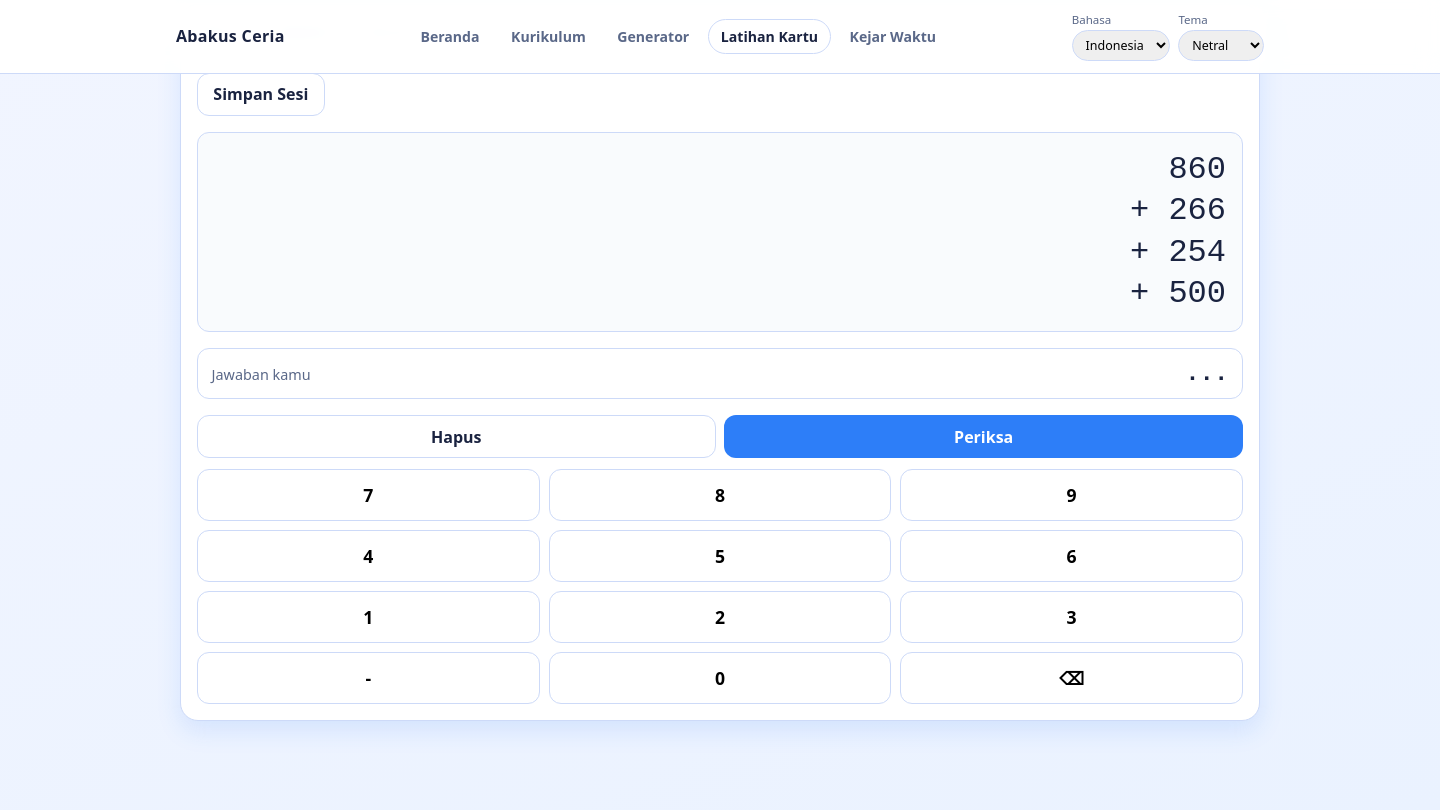
Test: Practice pages › saves anki session progress
(page scrolled)
Click the button "1" at (368,617), box [197,591,540,643]
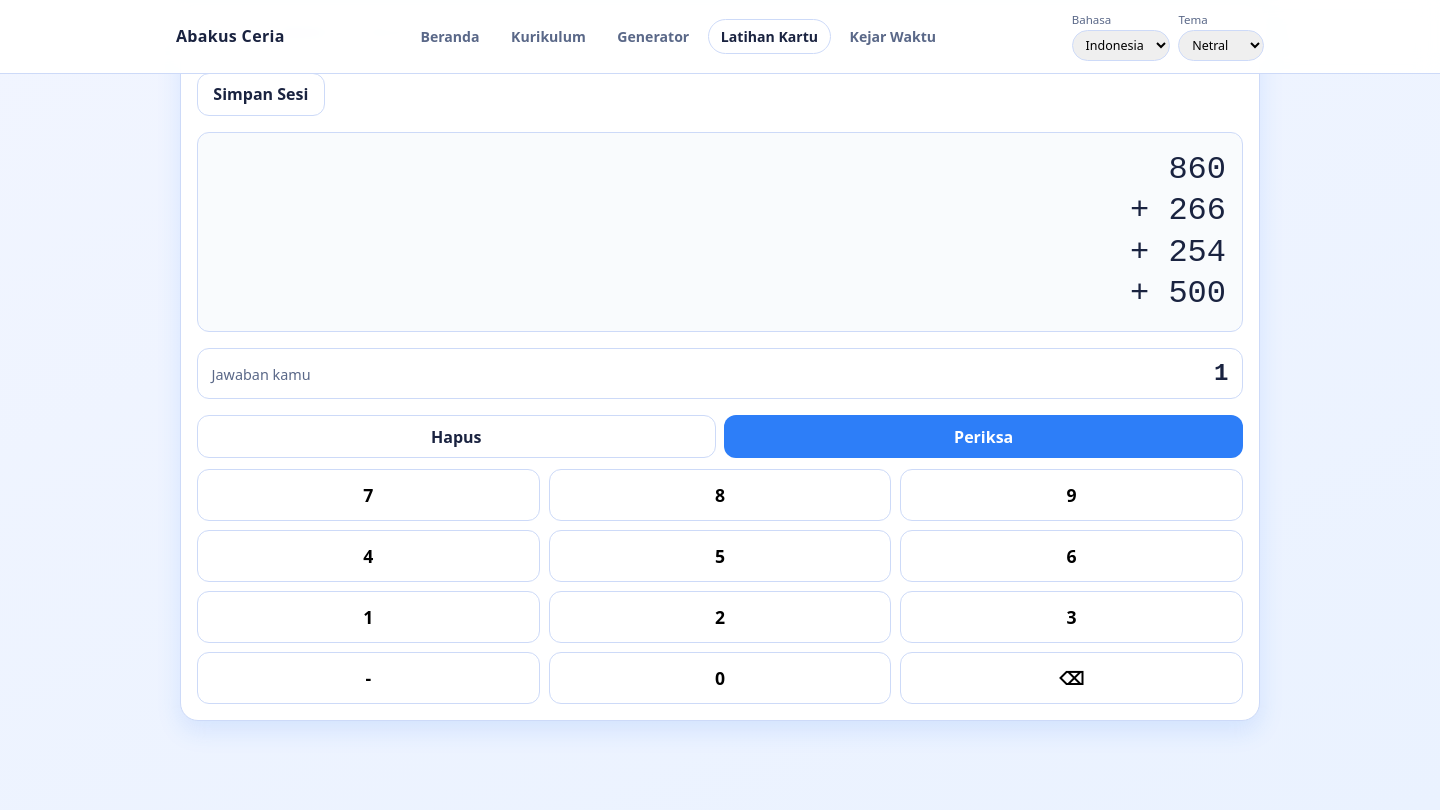
Click the button "8" at (720,495), box [549,469,891,521]
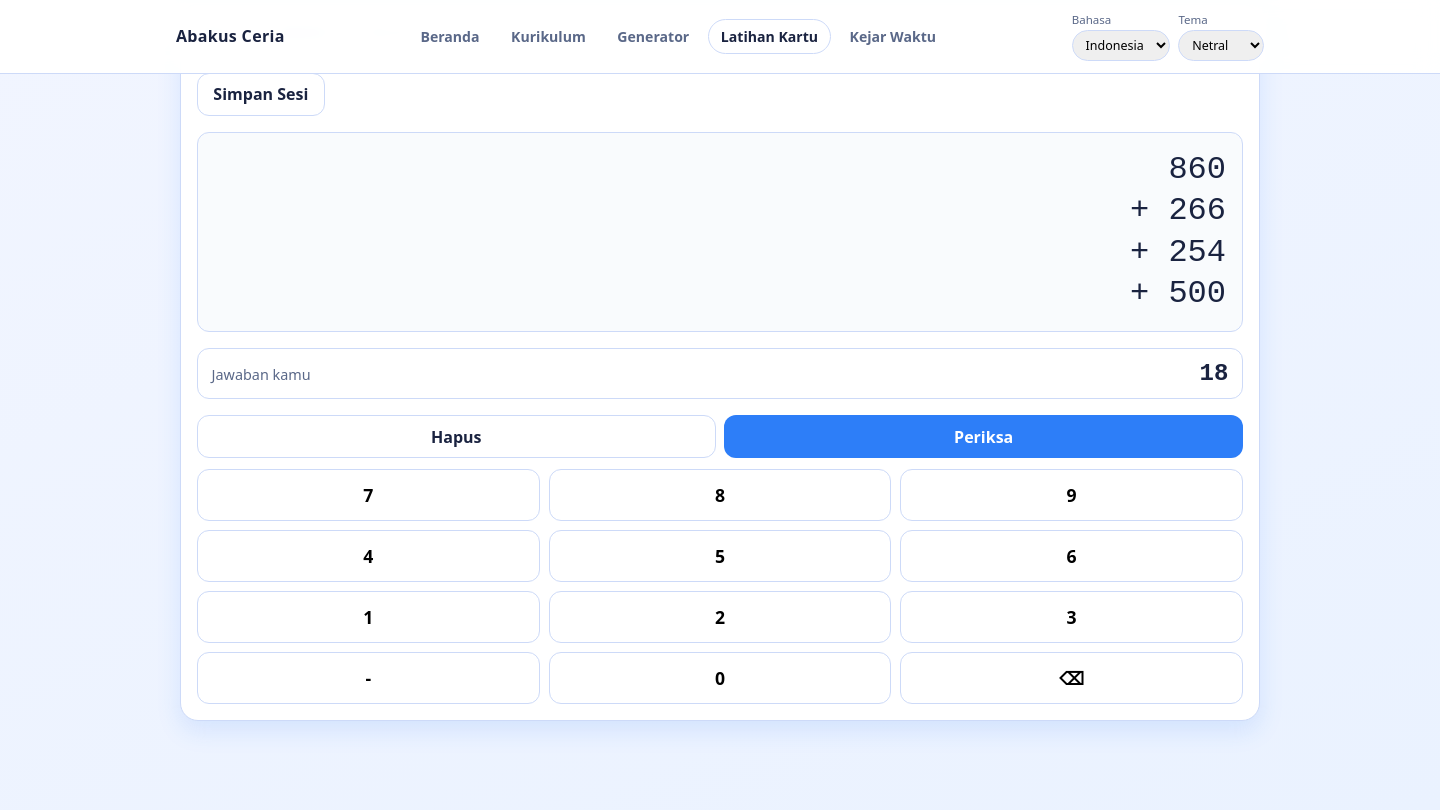
Click the button "8" at (720,495), box [549,469,891,521]
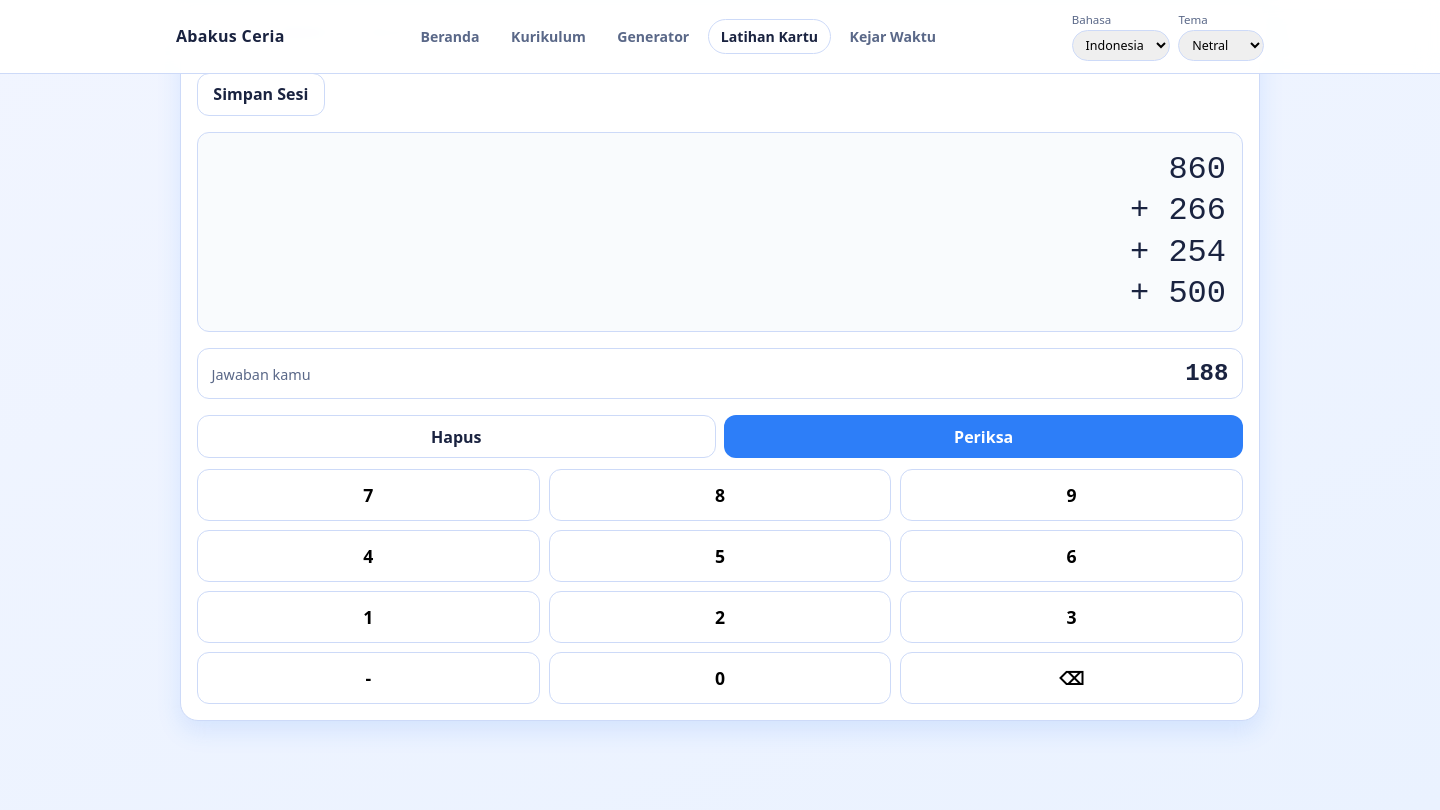
Click the button "0" at (720,678), box [549,652,891,704]
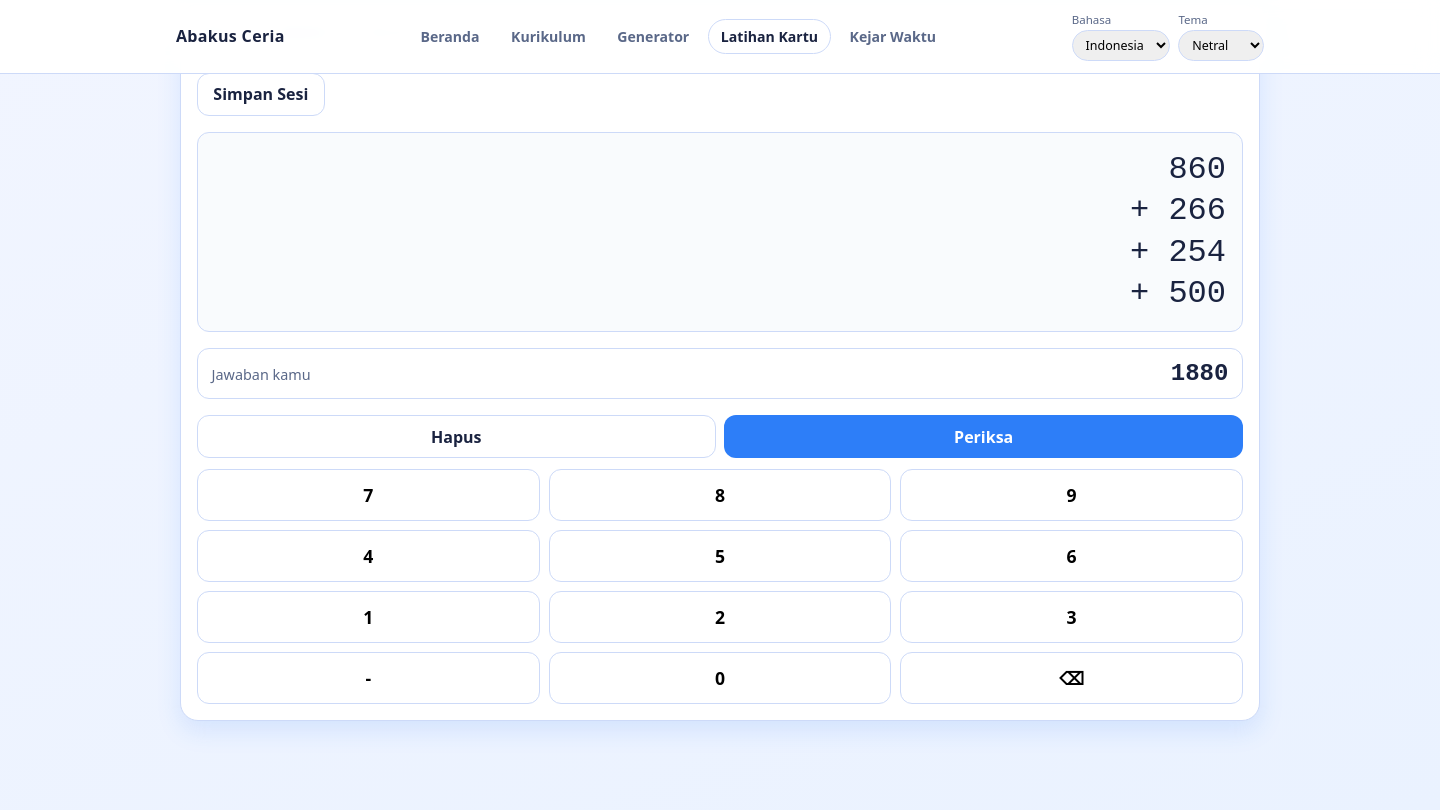
Click the button "Periksa" at (984,437), box [724,415,1243,458]
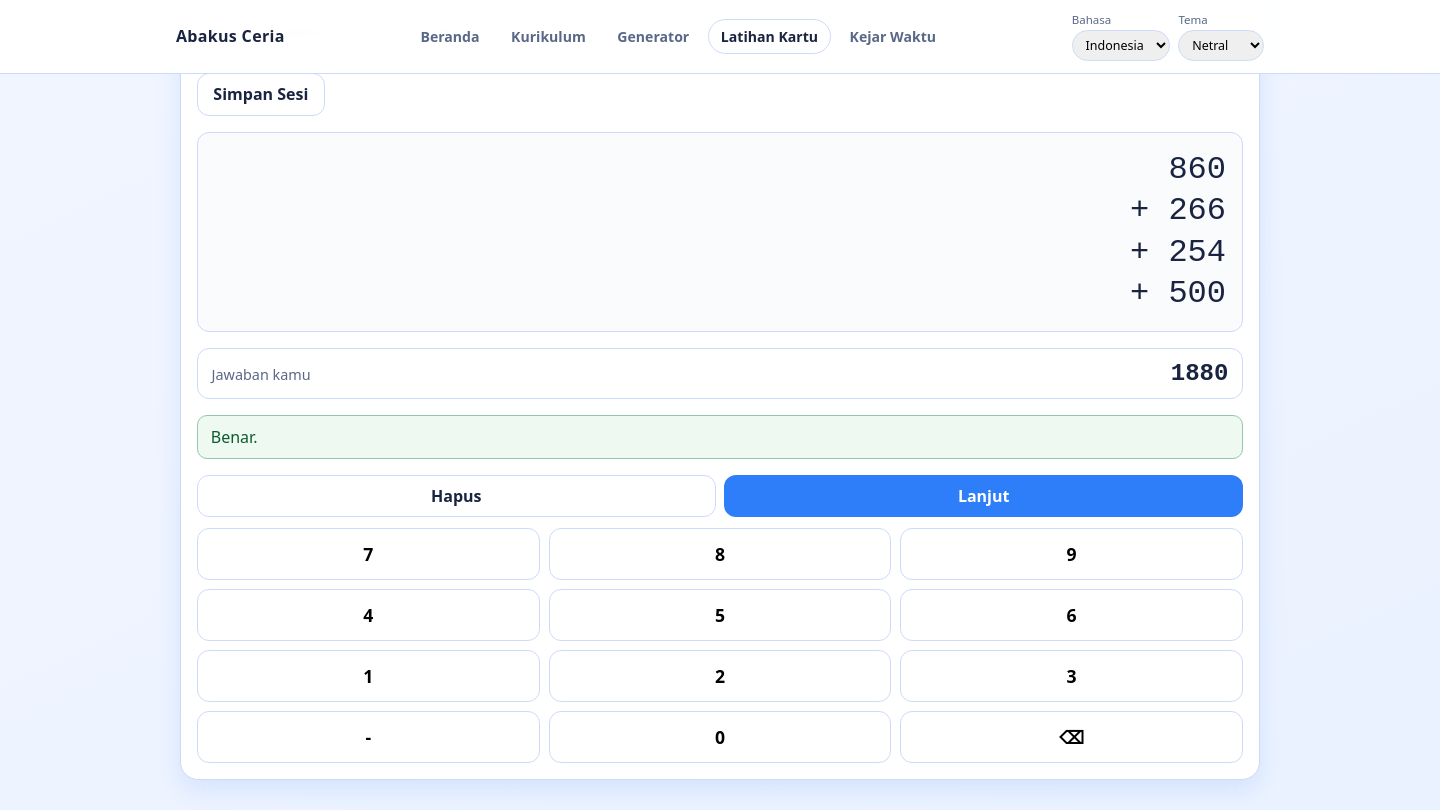
Click the button "Simpan Sesi" at (261,94), box [197,73,325,116]
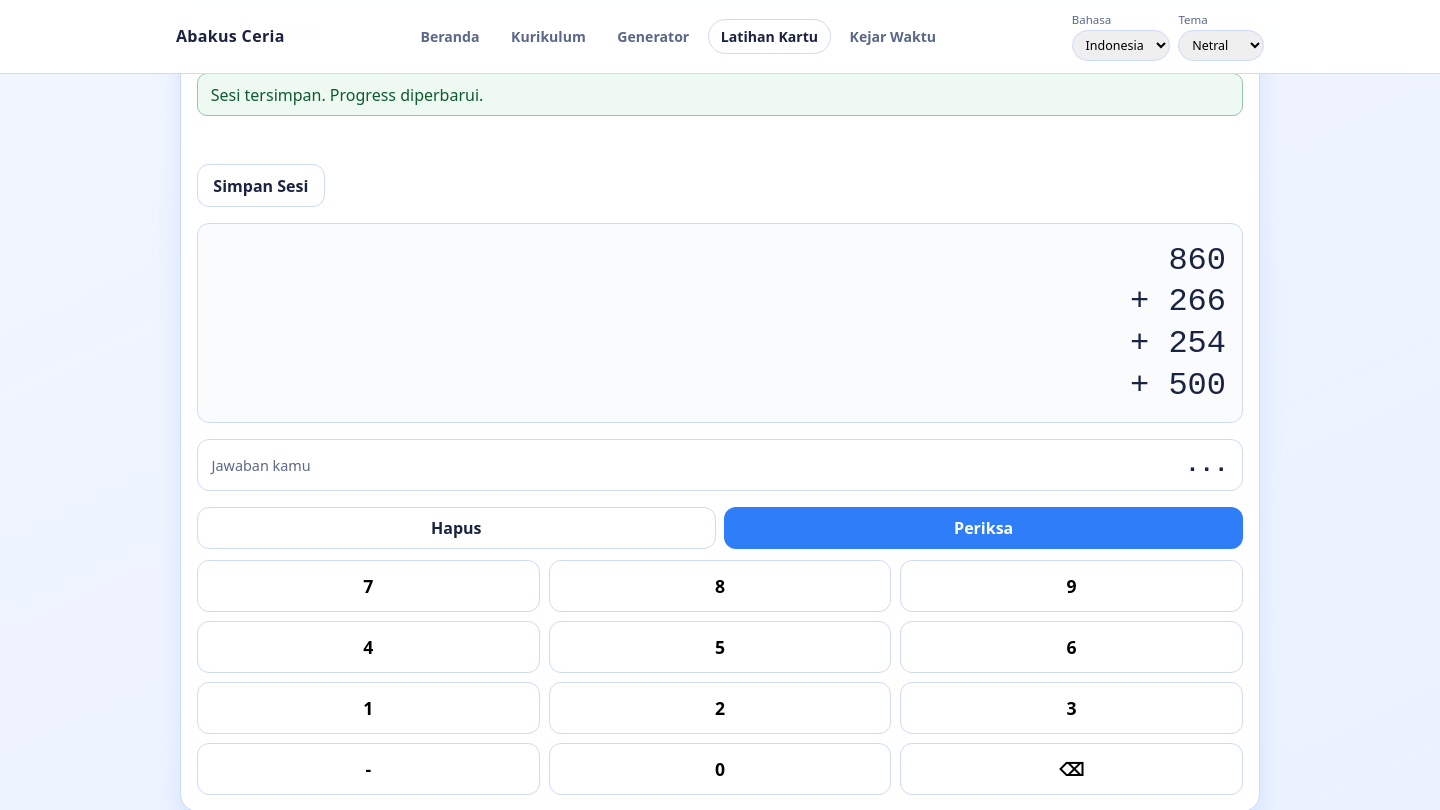
Now the text "Sesi tersimpan. Progress diperbarui." is shown, box [197,73,1243,116]
